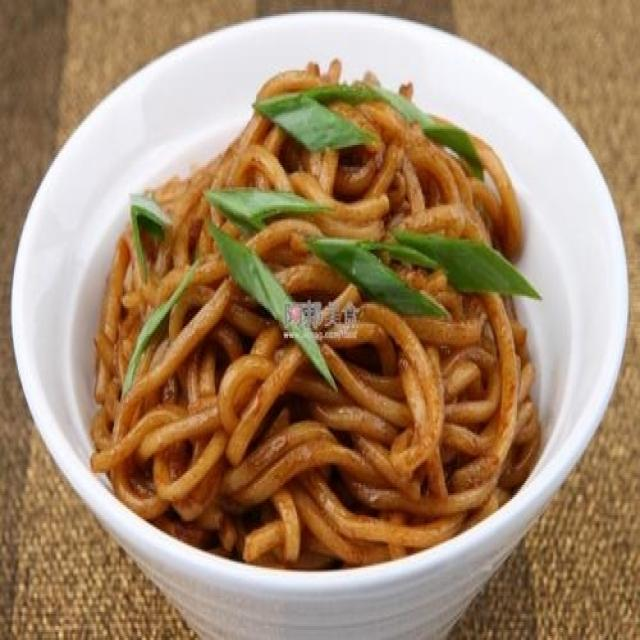面条主食: (37, 20, 599, 612)
